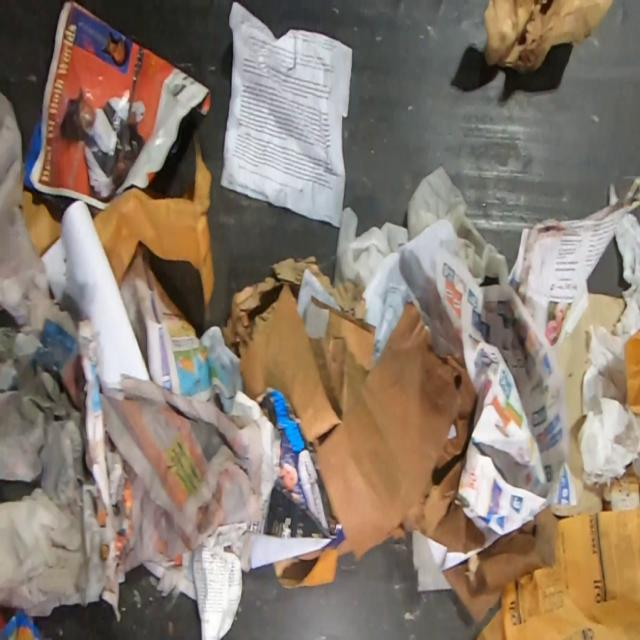cardboard: (313, 299, 489, 561), (239, 267, 378, 448), (550, 292, 627, 518), (441, 505, 564, 625), (482, 0, 614, 76)
soft_plastic: (0, 606, 49, 640)
